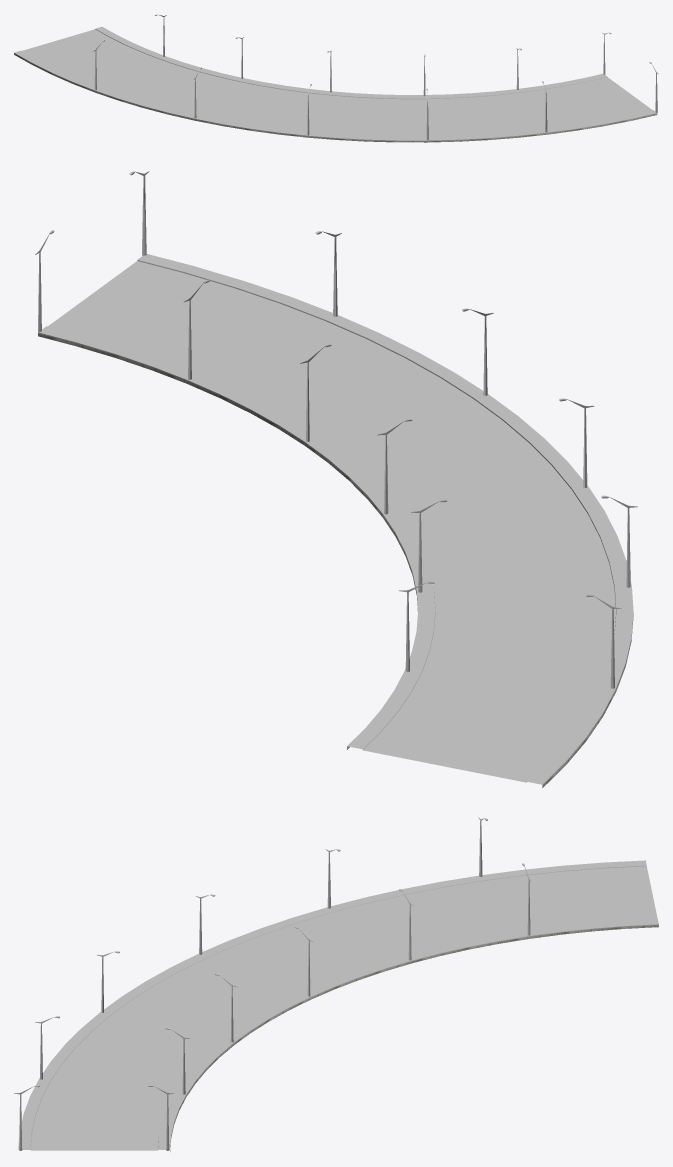
The model's file is Big_Road_85.FBX.
3 views of the same model, one above another, from view 1: azimuth 30°, elevation 25°; view 2: azimuth 150°, elevation 25°; view 3: azimuth 270°, elevation 25° (orthographic). The views are drawn at different scales.
Visible parts, largest first — view 1: Big_Road_85, city_light016; view 2: Big_Road_85, city_light016; view 3: Big_Road_85, city_light016.
Part boxes in pixels (x1=…): Big_Road_85: x1=14, y1=26, x2=657, y2=142; city_light016: x1=93, y1=14, x2=658, y2=140; Big_Road_85: x1=38, y1=254, x2=633, y2=787; city_light016: x1=35, y1=171, x2=637, y2=688; Big_Road_85: x1=18, y1=860, x2=658, y2=1151; city_light016: x1=14, y1=817, x2=531, y2=1150.
Bounding box in the file's own units: 10247 × 1104 × 9631.
